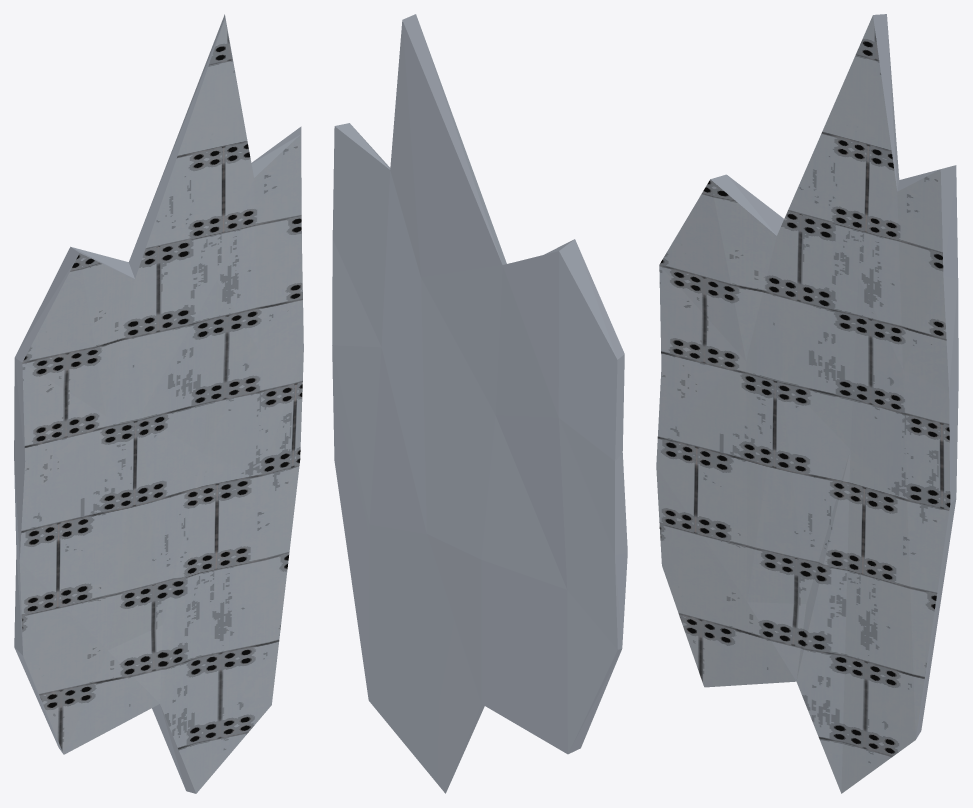
Rendered from plat2.glb.
The picture shows the model from 3 angles, left to right: view 1: azimuth 30°, elevation 25°; view 2: azimuth 150°, elevation 25°; view 3: azimuth 330°, elevation 25°; orthographic projection. The views are drawn at different scales.
Visible parts, largest first — view 1: Solar_big_broken_1; view 2: Solar_big_broken_1; view 3: Solar_big_broken_1.
Boxes of the visible parts, x1,y1,x2,y2 form: Solar_big_broken_1: (14, 14, 303, 793); Solar_big_broken_1: (332, 14, 627, 793); Solar_big_broken_1: (656, 14, 958, 793).
Bounding box in the file's own units: 3.89 × 9.91 × 0.3433.
1 material, 1 textured.
